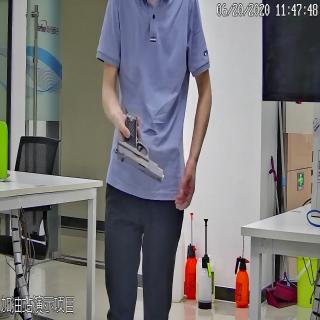gun: (113, 112, 165, 183)
